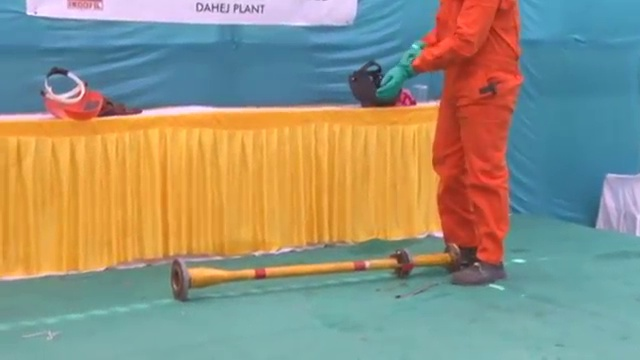person: (365, 1, 524, 298)
